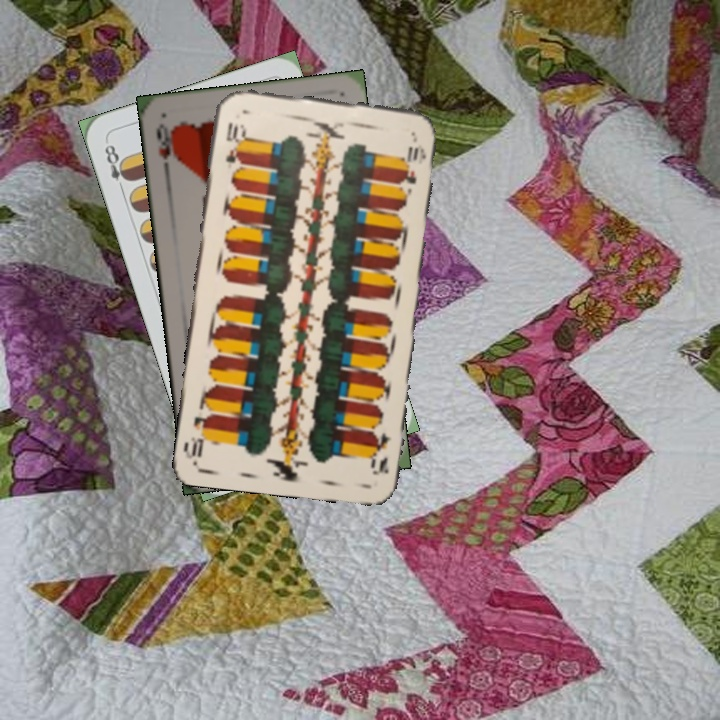E10: (366, 421, 394, 477), (221, 118, 246, 166)
E8: (100, 140, 133, 195)
HO: (152, 119, 178, 178)
